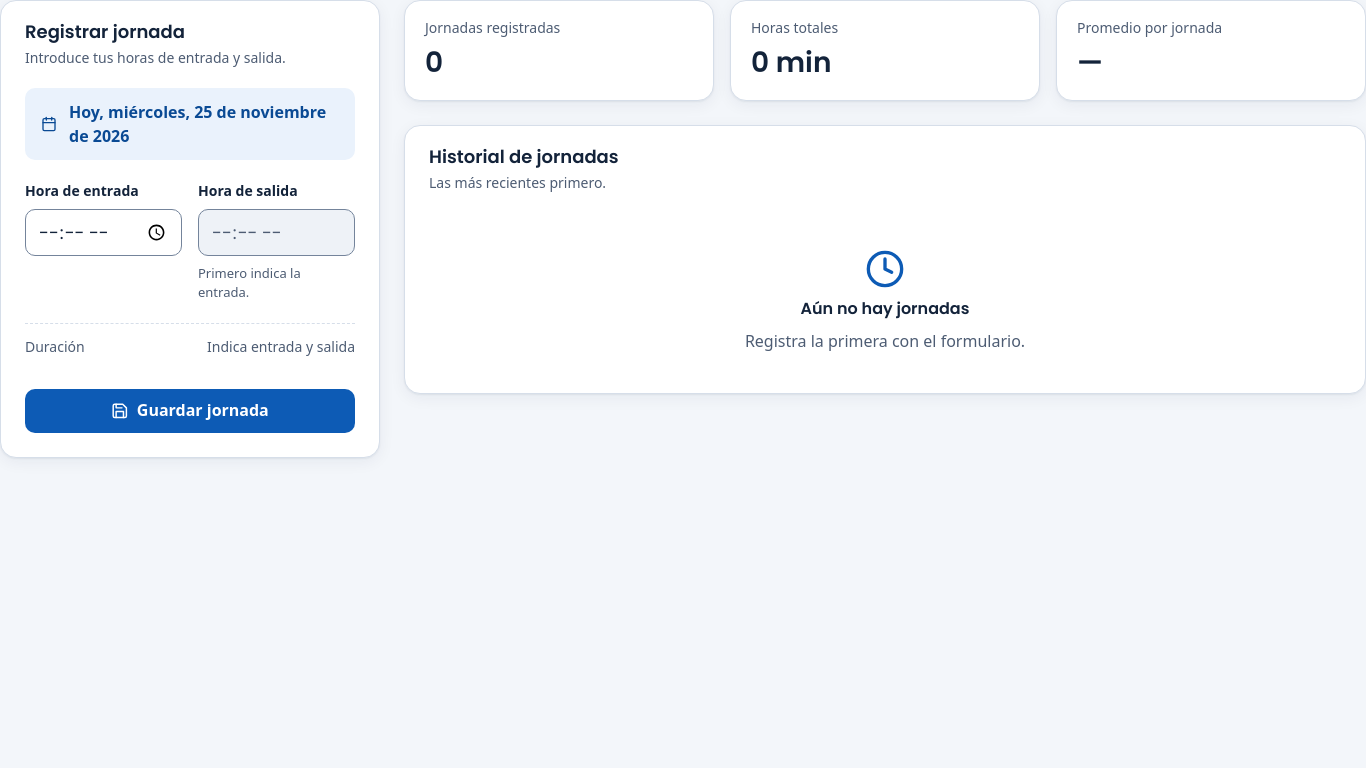
Scenario: registers a shift with a single API call and adds it to the history
In the time field labelled "Hora de entrada": (104, 232) [25,209,182,256], type "08:00"
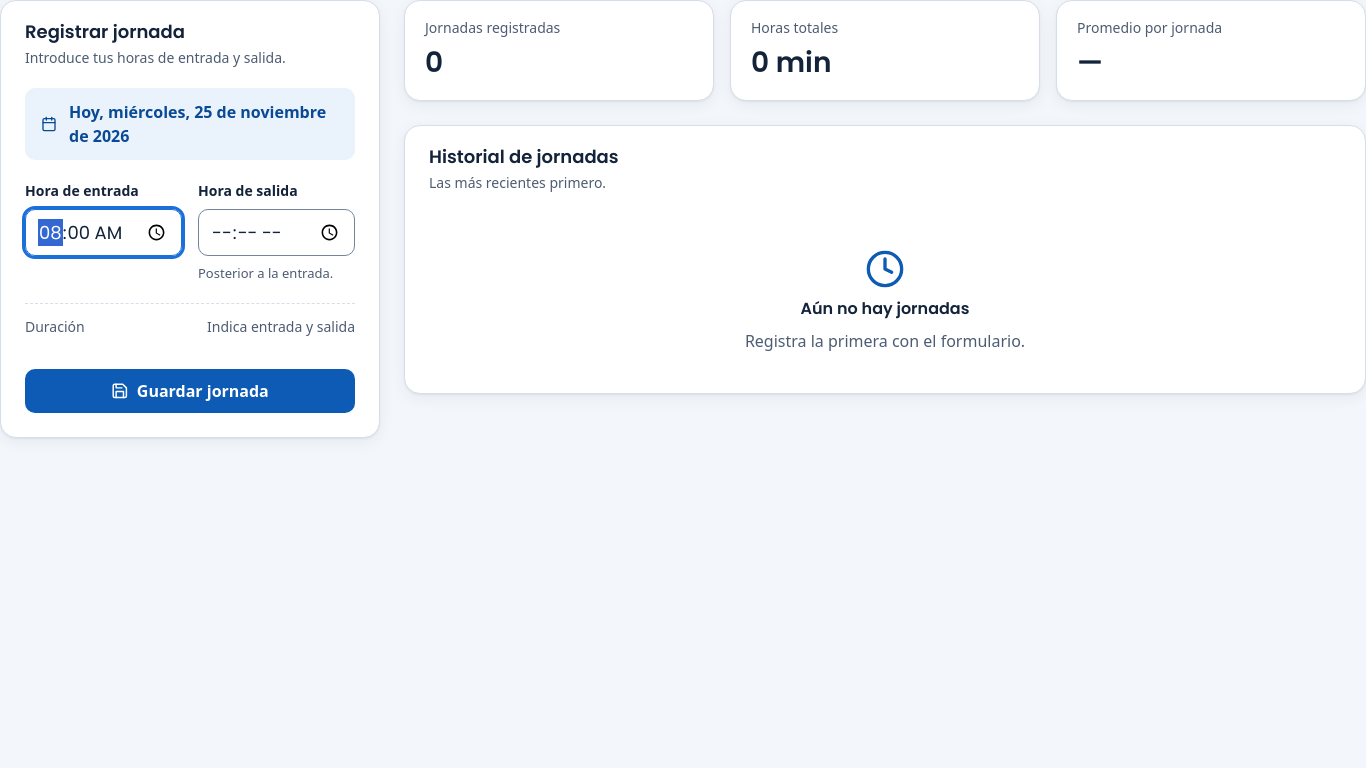
In the time field labelled "Hora de salida": (276, 232) [198,209,355,256], type "16:30"
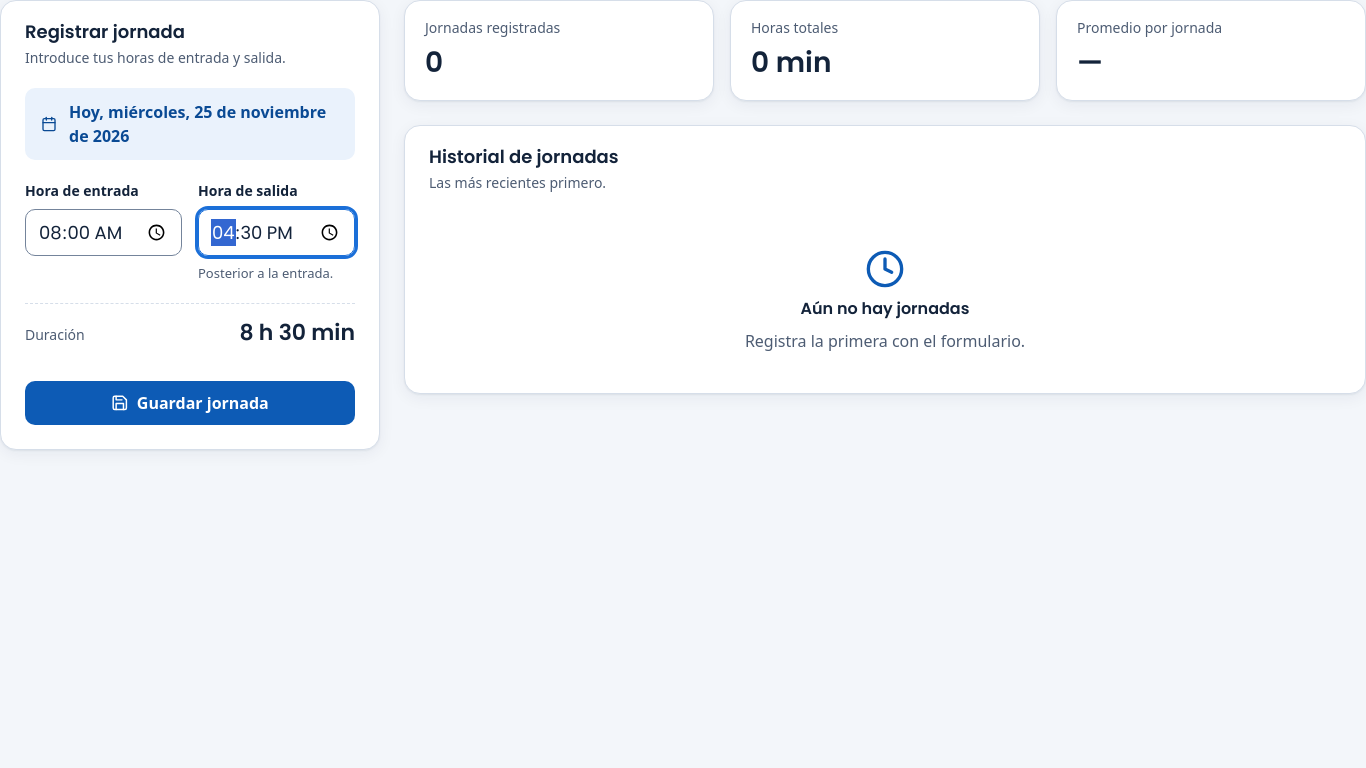
Click the button "Guardar jornada": click(190, 403) [25,381,355,425]
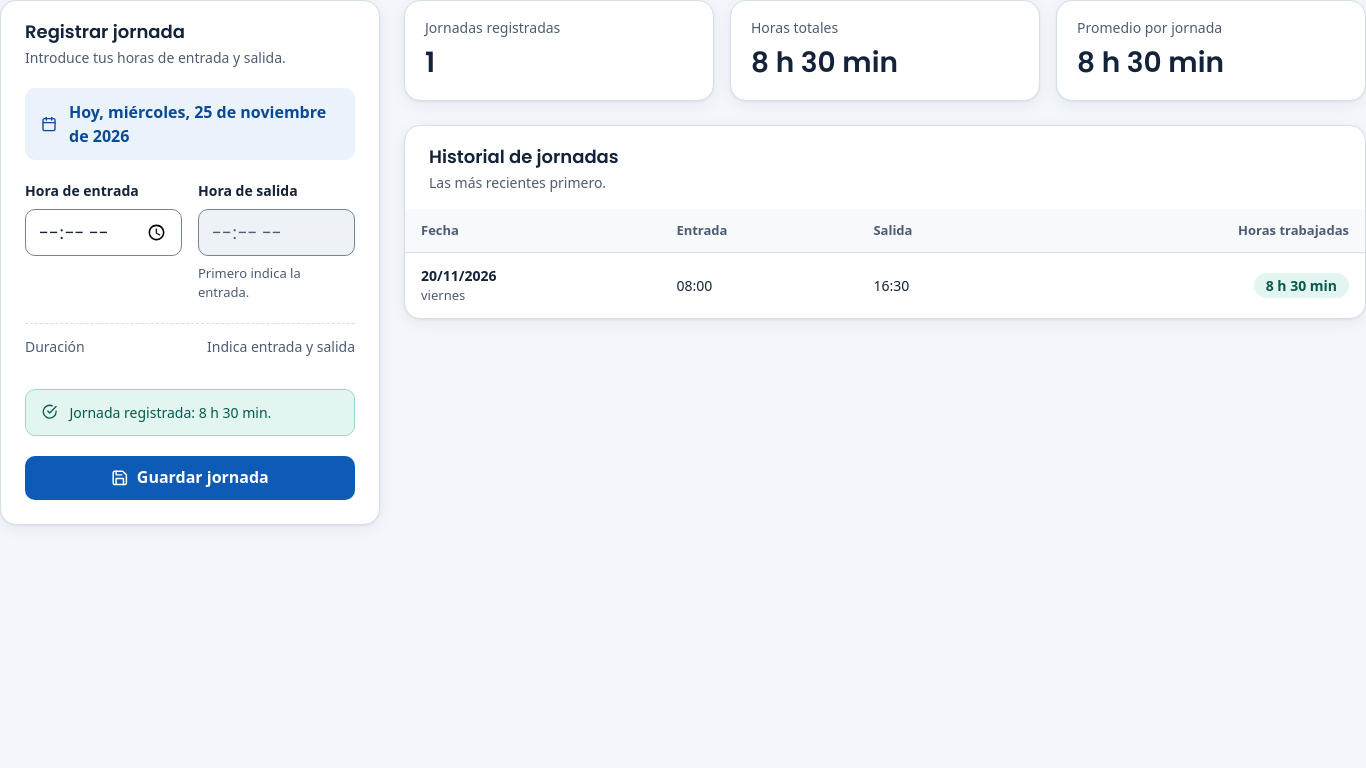
expect the message reads "Jornada registrada: 8 h 30 min.": met, box [69,403,271,422]
expect the number of rows is 2: met, box [405,209,1365,253]; [405,253,1365,318]
expect the text "8 h 30 min" in the row of "20/11/2026" is shown: met, box [1266,276,1337,295]
